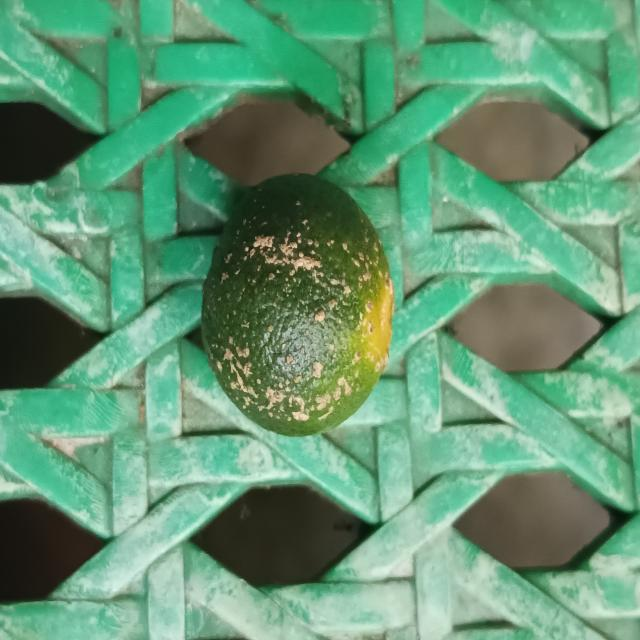scab: (197, 165, 399, 438)
